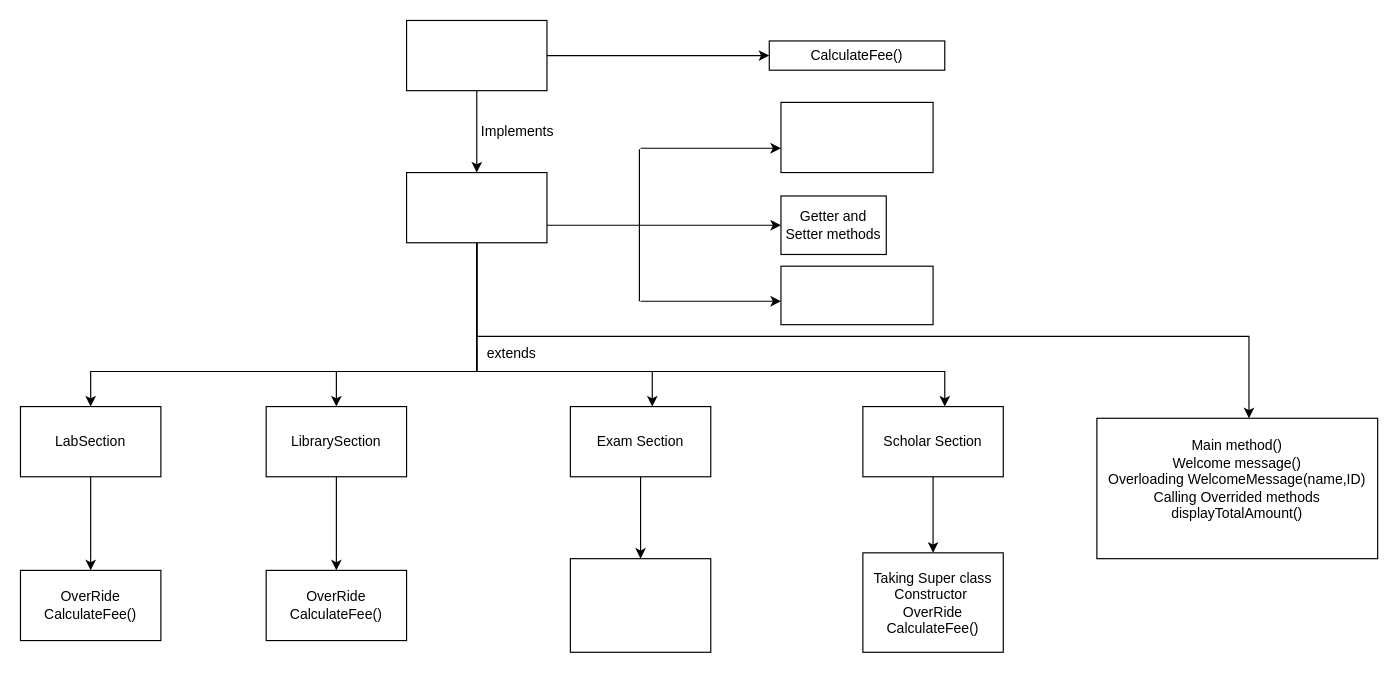
Some shapes in this 1398 by 673 pixel diagram are drawn without their labels. Here are the shapes that lost their labels. From the top down, the box of each, then its label:
(405, 19, 547, 91): DUE(Interface)
(780, 101, 933, 173): Constructor(using this for parameterised) final Backlog fees
(405, 171, 547, 243): abstract Section(Class)
(780, 265, 933, 325): BusinessLogic Calculate Fee() displayTotalAmount()
(569, 558, 711, 652): Taking superclass Constructor() OverRide CalculateFee()
